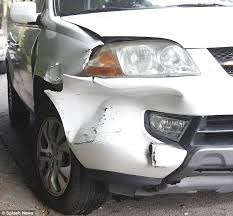Dent: (68, 84, 191, 153), (44, 61, 68, 91), (77, 46, 96, 72)
Scratch: (73, 103, 115, 149)
